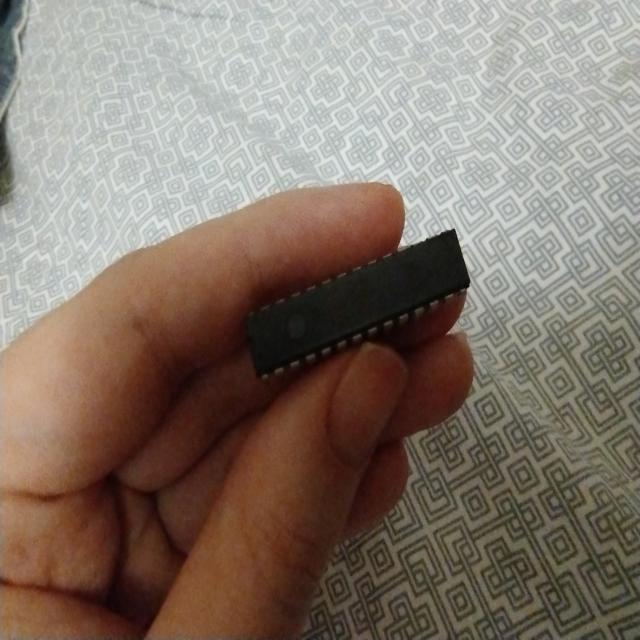atmega: (243, 225, 472, 384)
